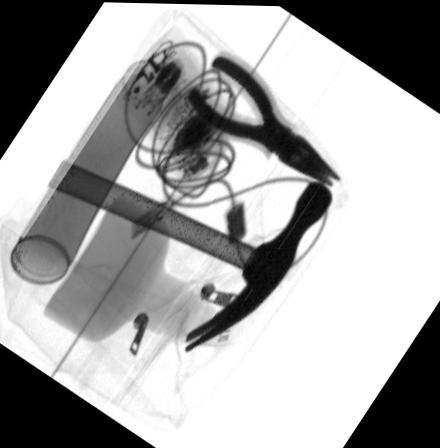Hammer: (44, 159, 330, 352)
Pliers: (184, 45, 343, 188)
